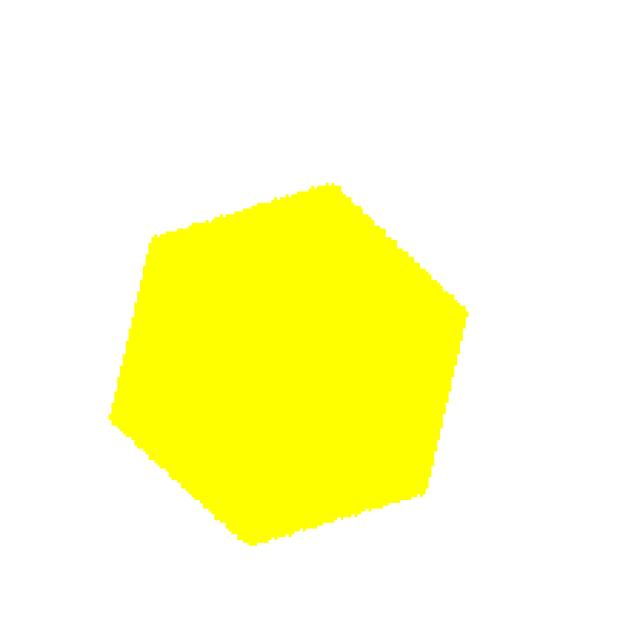Hexagon: (80, 151, 510, 573)
